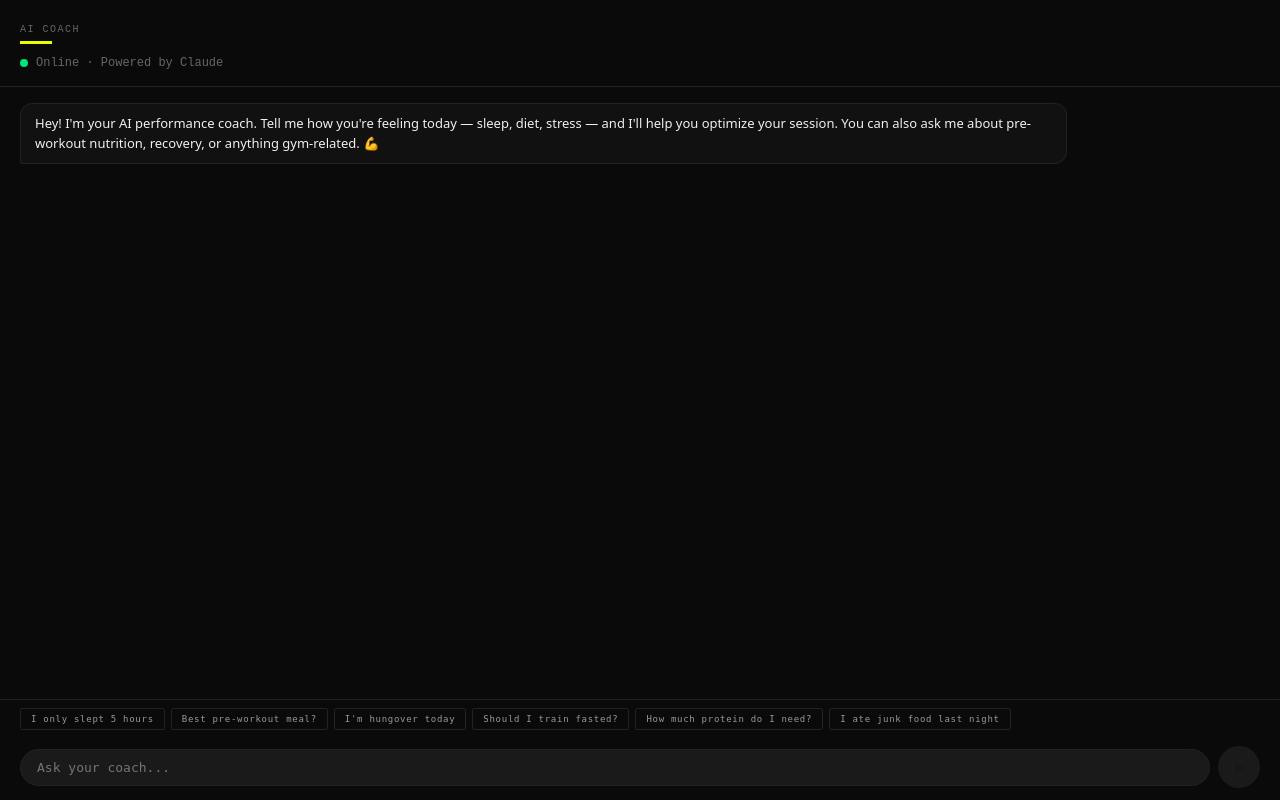
Scenario: AIChat component › US-04: user message appears in chat after sending
This screenshot has width=1280, height=800.
In the field with test id "chat-input": (615, 767) [20,748,1210,786], type "I slept 4 hours"
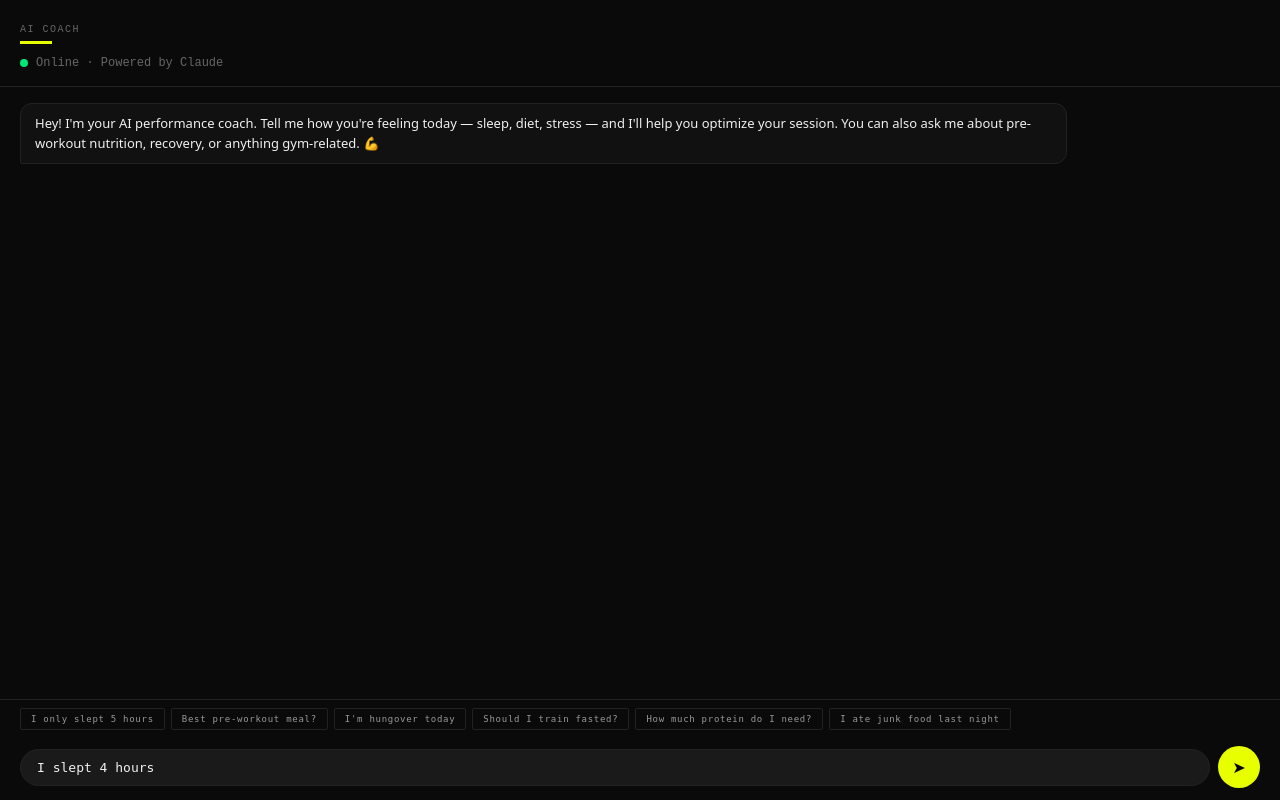
Click the button with test id "send-button": (1239, 767) [1218,746,1260,788]
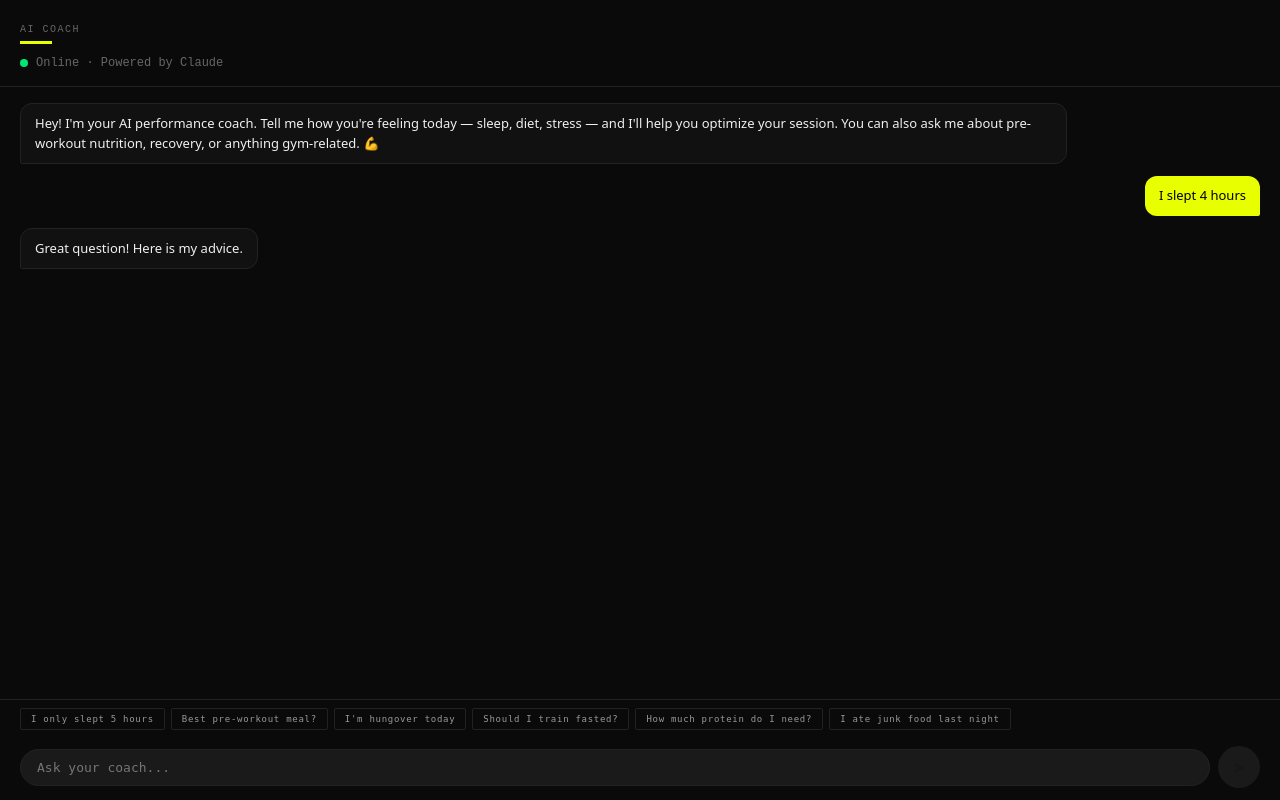
Expected: the text "I slept 4 hours" is shown, [1145,176,1260,216]
